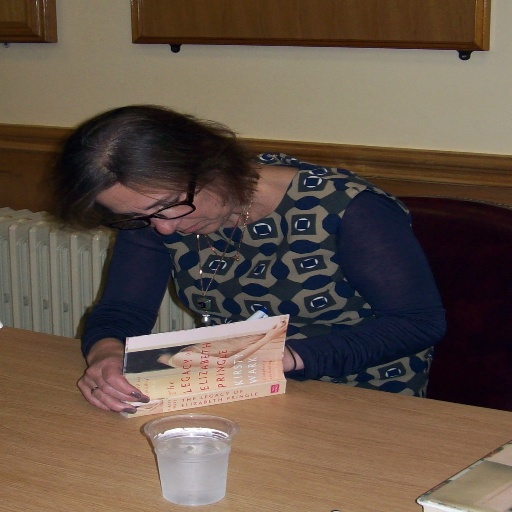hand: (77, 336, 145, 422), (268, 321, 288, 337)
